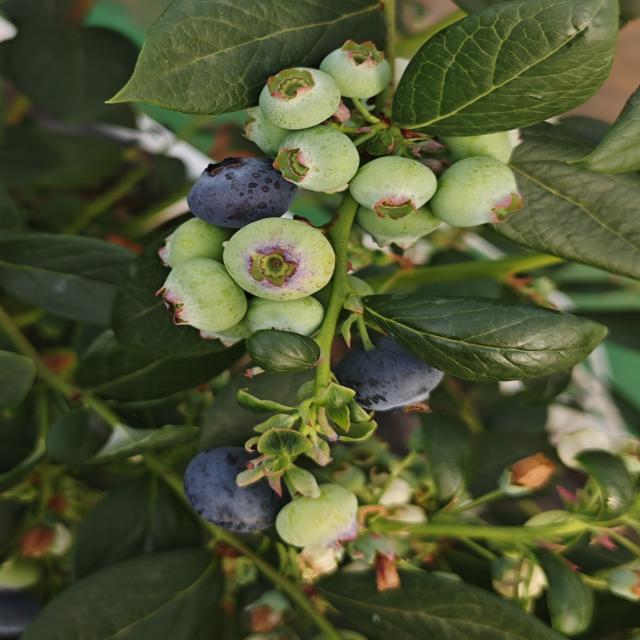ripe: (190, 444, 292, 541), (184, 149, 304, 221), (326, 345, 452, 410)
